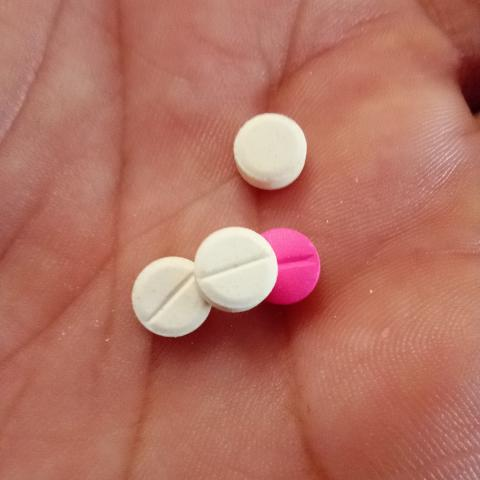Pill: (192, 202, 280, 329), (222, 96, 324, 203), (124, 238, 212, 357)
